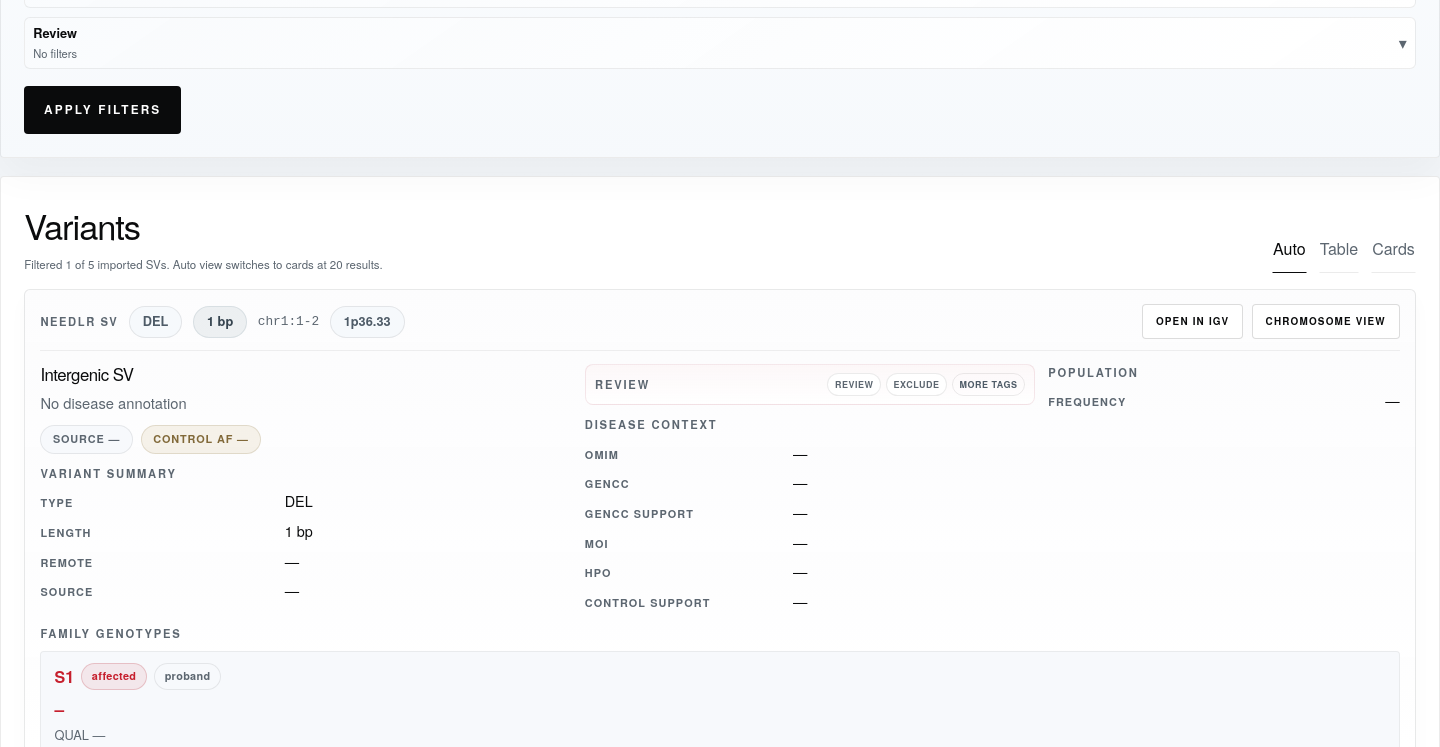
FamilyStructuralVariantsPage › can save a quick review tag without updating count-only cache entries as variant pages
(page scrolled)
Click the button "Review" at (854,384), box [827, 373, 881, 396]
(page scrolled)
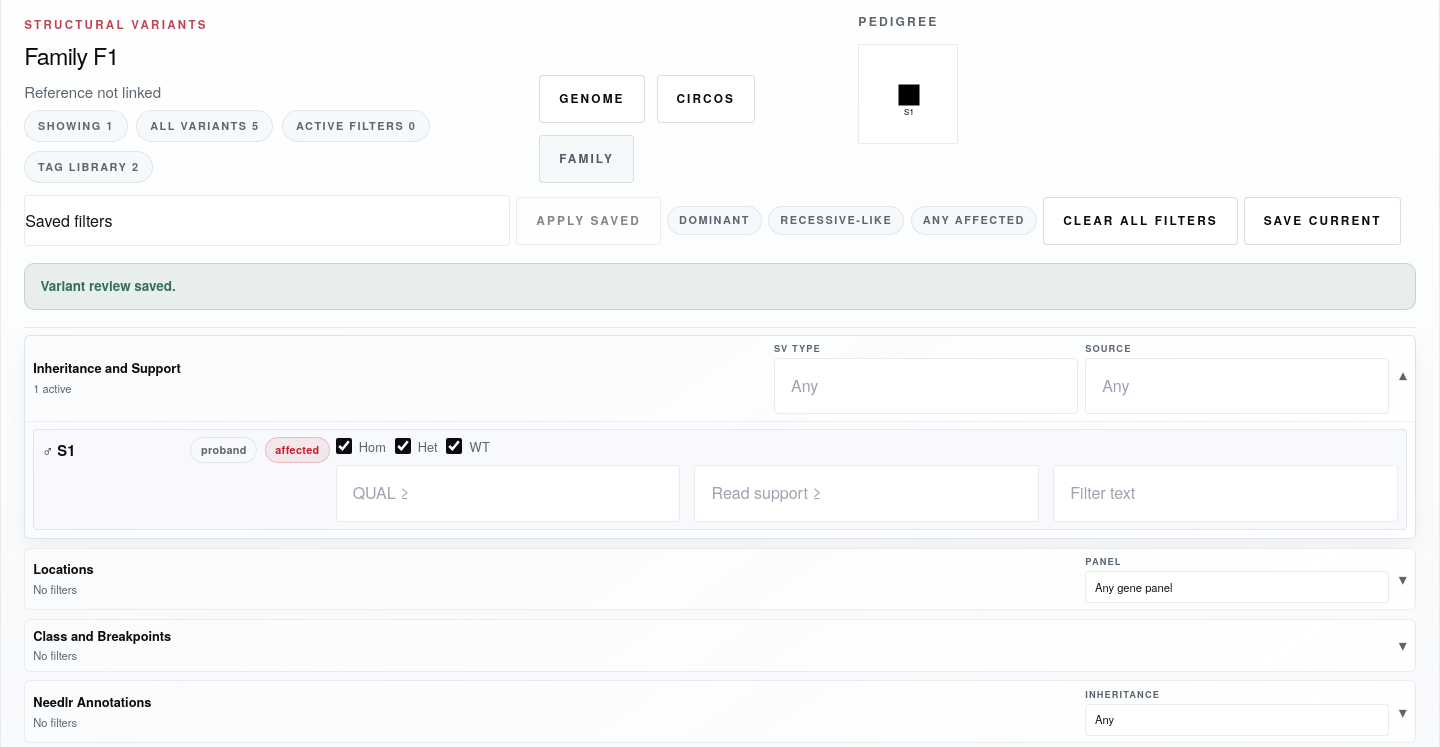
Check: the text "Variant review saved." is shown, box [24, 263, 1416, 310]
